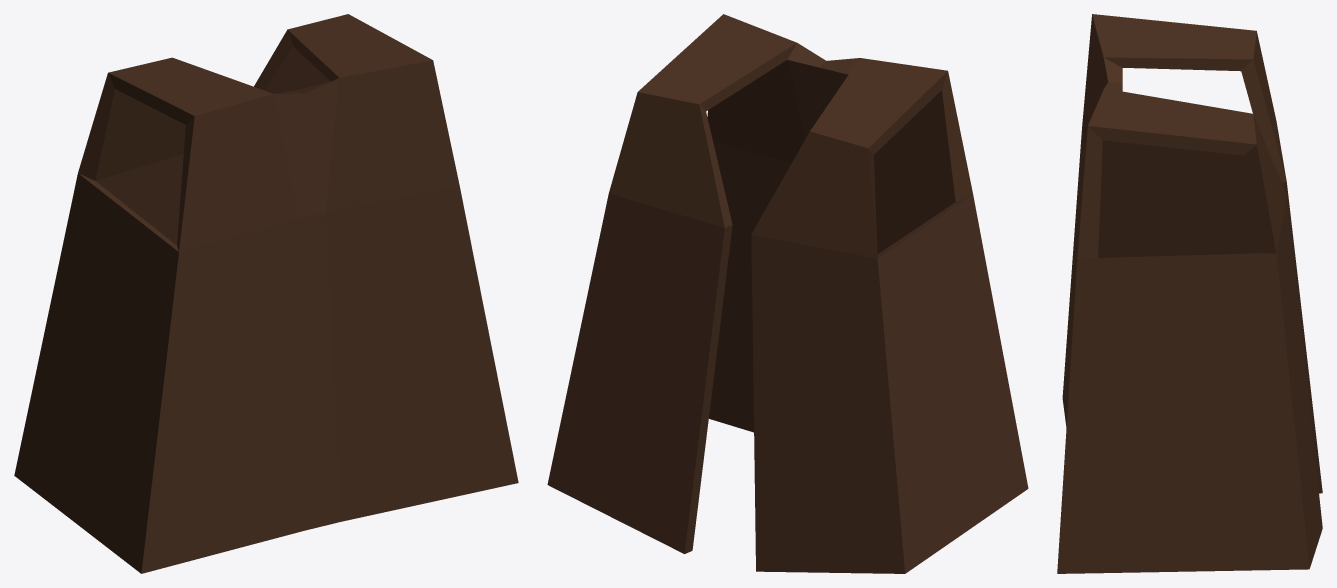
The model's file is Jacket.fbx.
3 views of the same model, side by side, from view 1: azimuth 30°, elevation 25°; view 2: azimuth 150°, elevation 25°; view 3: azimuth 270°, elevation 25° (orthographic). The views are drawn at different scales.
Visible parts, largest first — view 1: Warm Cloth; view 2: Warm Cloth; view 3: Warm Cloth.
Boxes of the visible parts, x1,y1,x2,y2 form: Warm Cloth: (14,14,518,573); Warm Cloth: (547,14,1028,573); Warm Cloth: (1057,14,1322,573).
Size of the model in its own units: 0.9332 by 1.09 by 0.5913.
